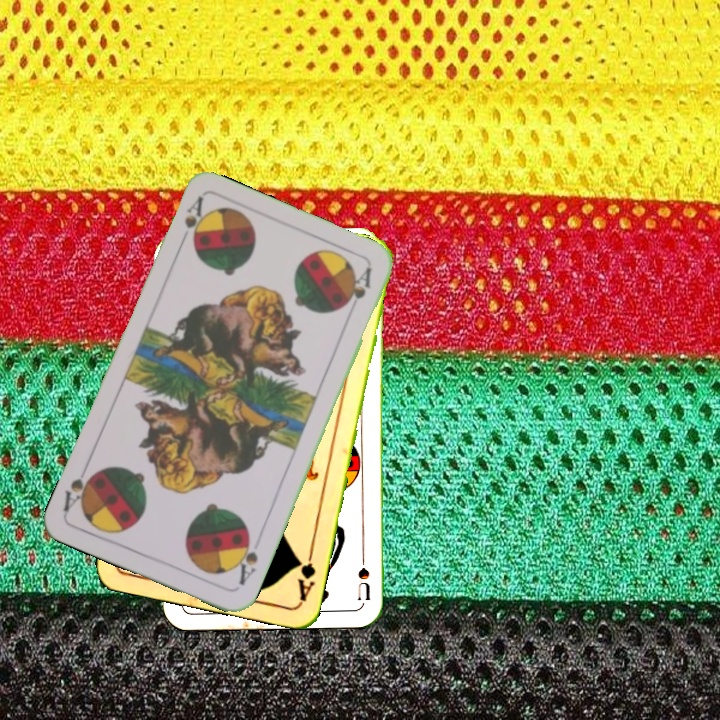GA: (292, 545, 319, 604)
SA: (175, 193, 208, 250), (230, 529, 261, 589)
SU: (354, 542, 373, 602)
